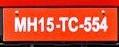1: (38, 15, 45, 33)
4: (99, 15, 108, 32)
5: (46, 15, 55, 33), (83, 15, 92, 33), (92, 15, 100, 33)
C: (68, 15, 79, 33)
H: (27, 15, 38, 34)
M: (14, 16, 26, 33)
T: (58, 15, 69, 33)
